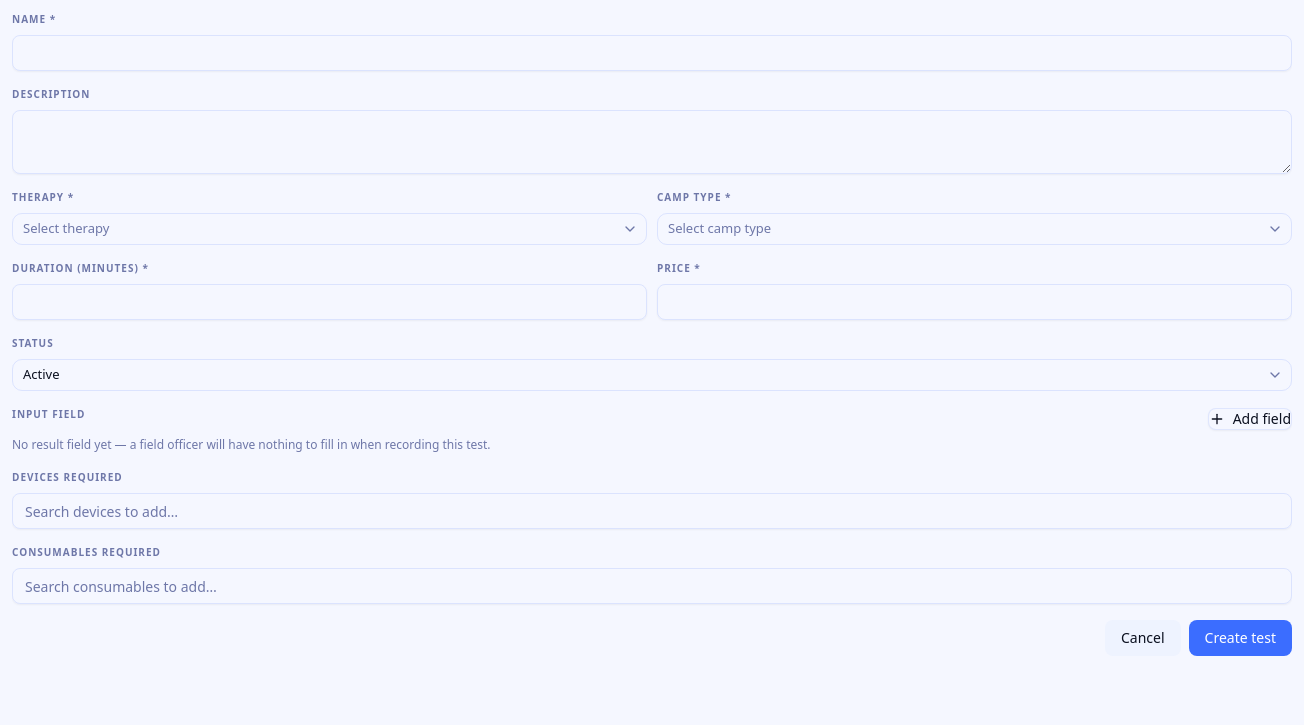
Test case: TestForm — create mode › caps result fields at one — the "Add field" button disappears once a field exists
Click the button "Add field" at (1250, 418), box [1208, 408, 1292, 430]
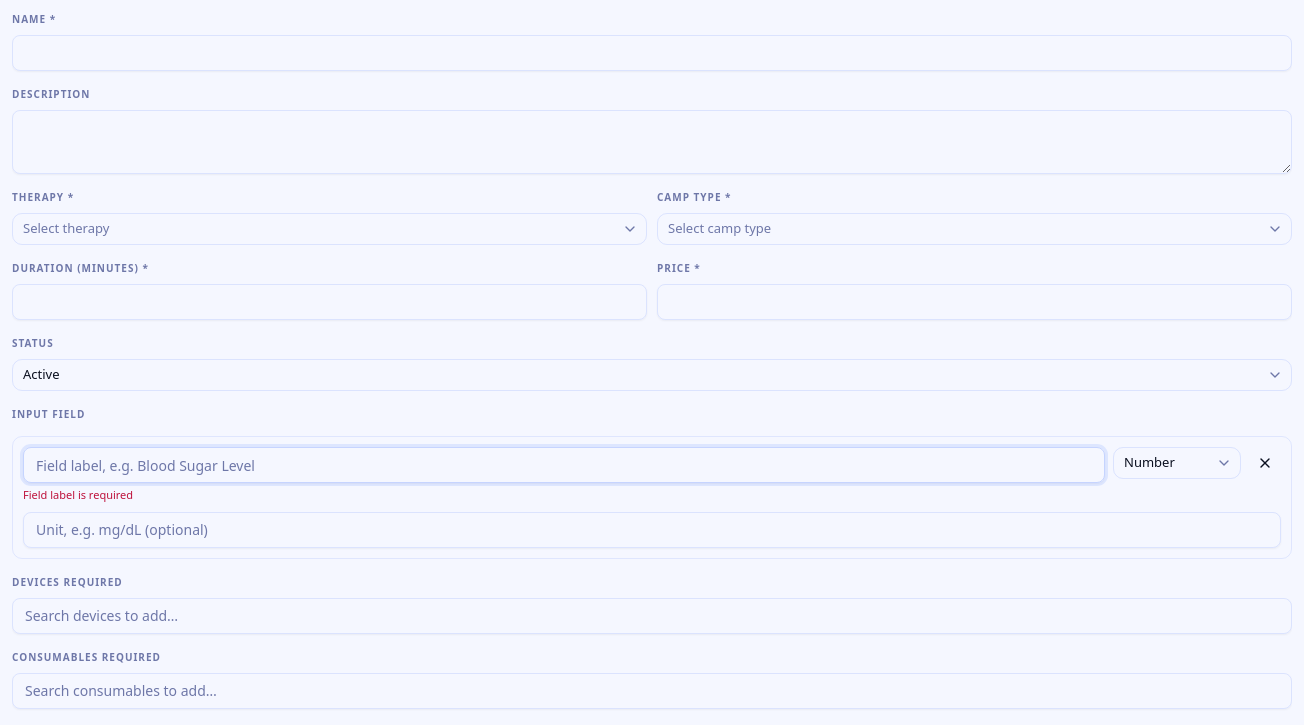
Now the button "Add field" is gone
Click the button named "remove field" at (1265, 463), box [1249, 447, 1281, 479]
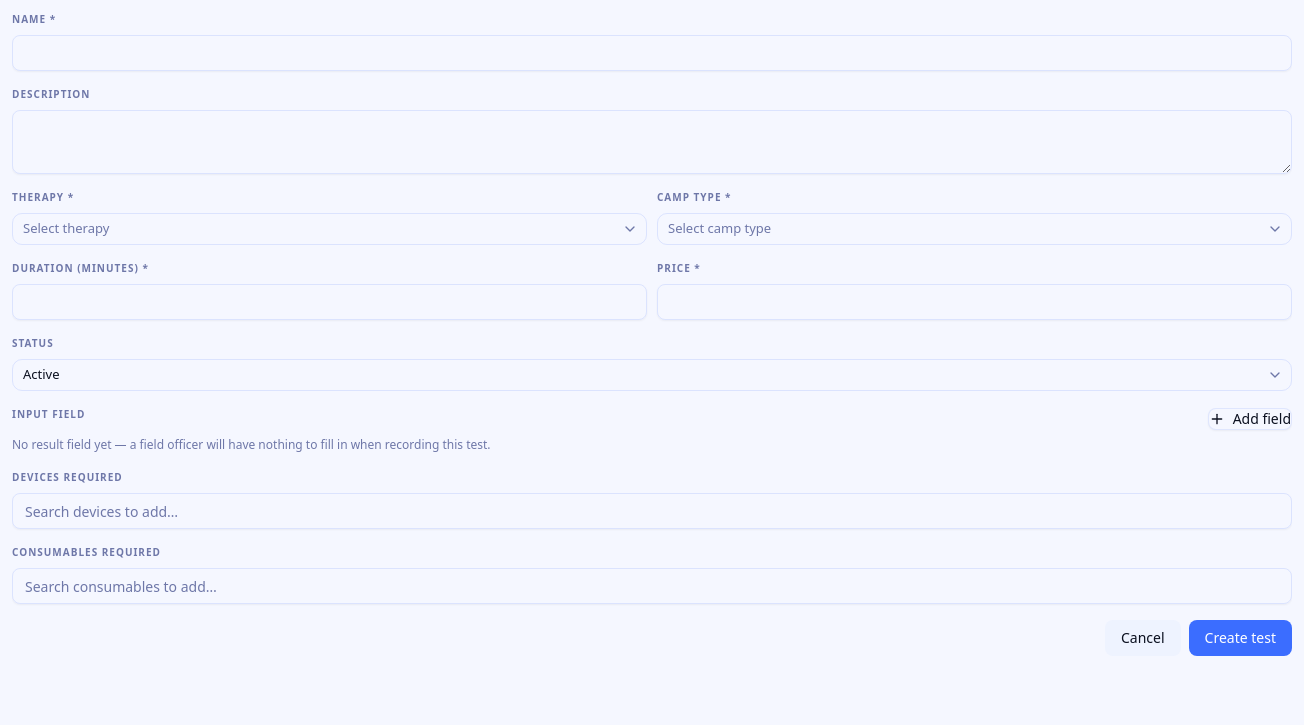
Now the button "Add field" is shown, box [1208, 408, 1292, 430]
